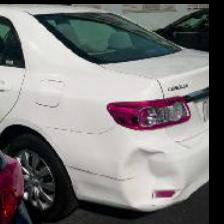bumper_dent: (126, 142, 168, 204)
